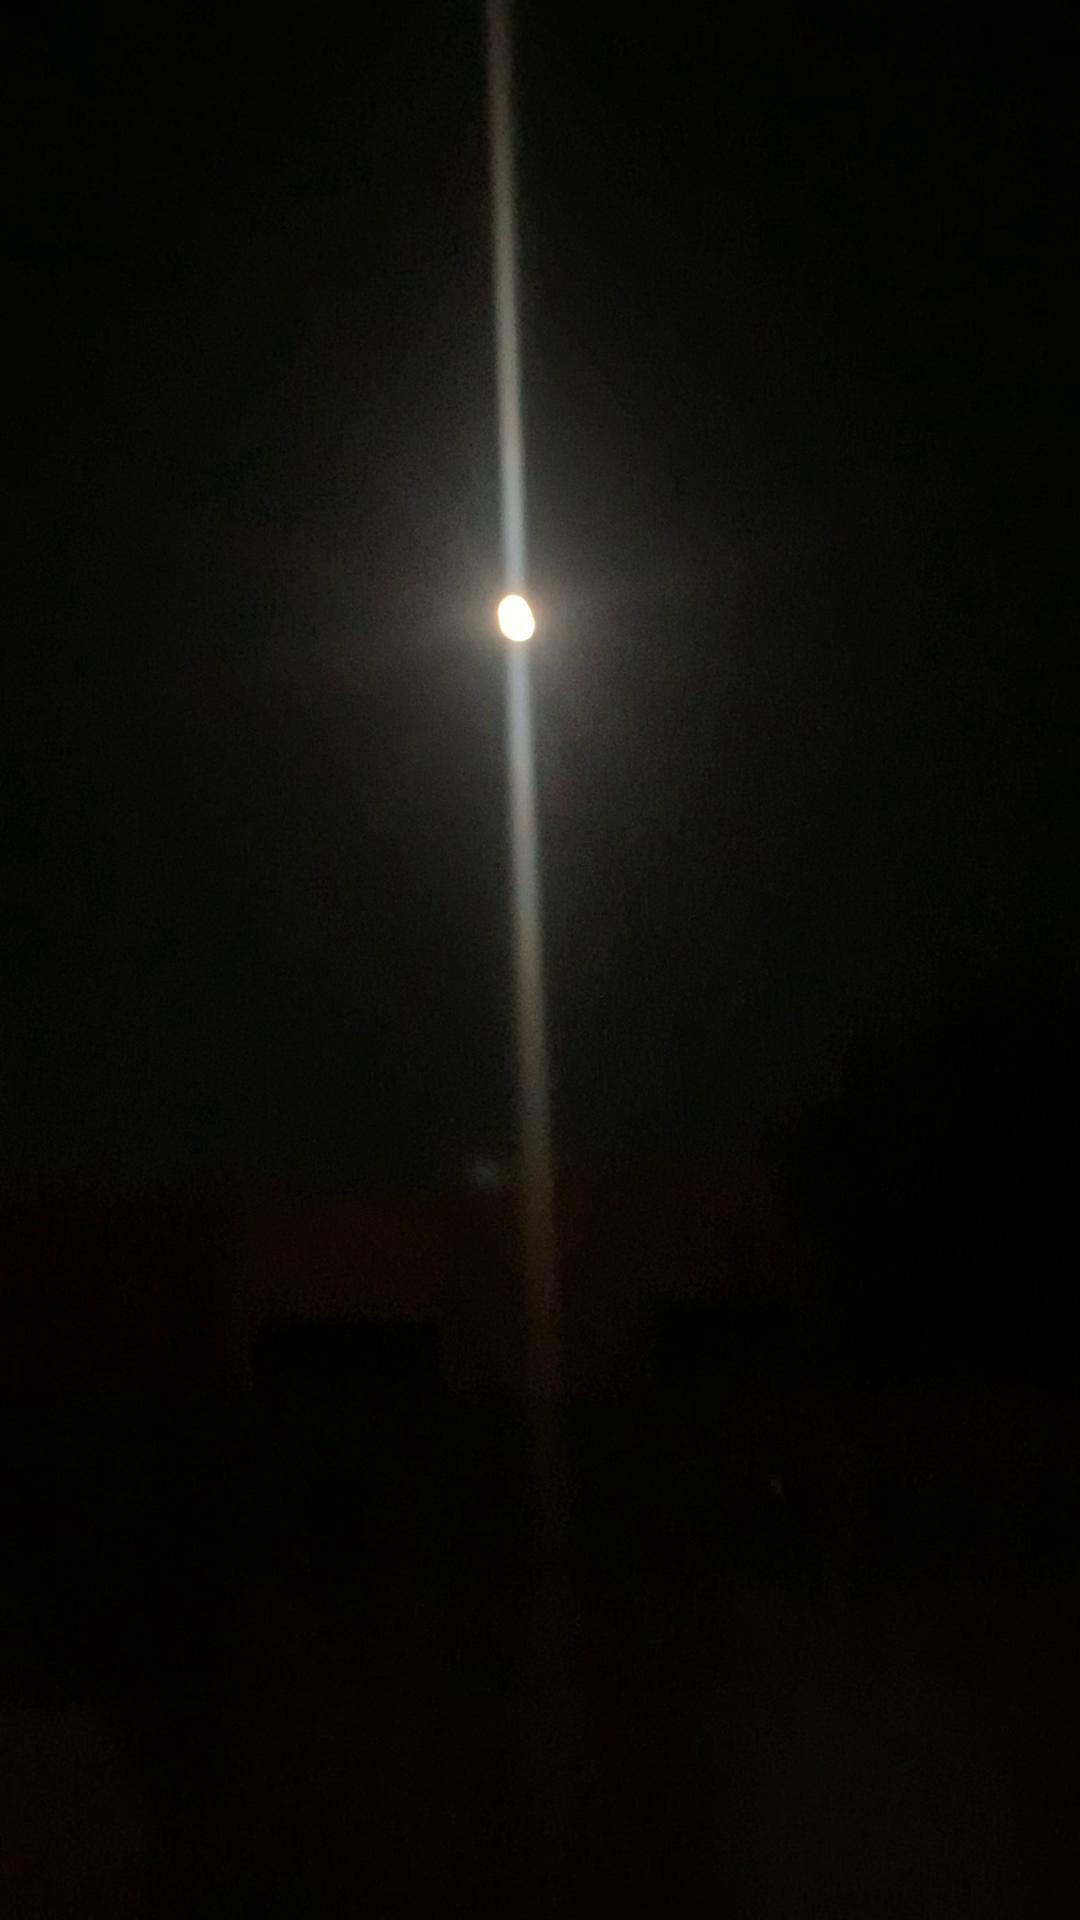moon: (480, 575, 588, 674)
